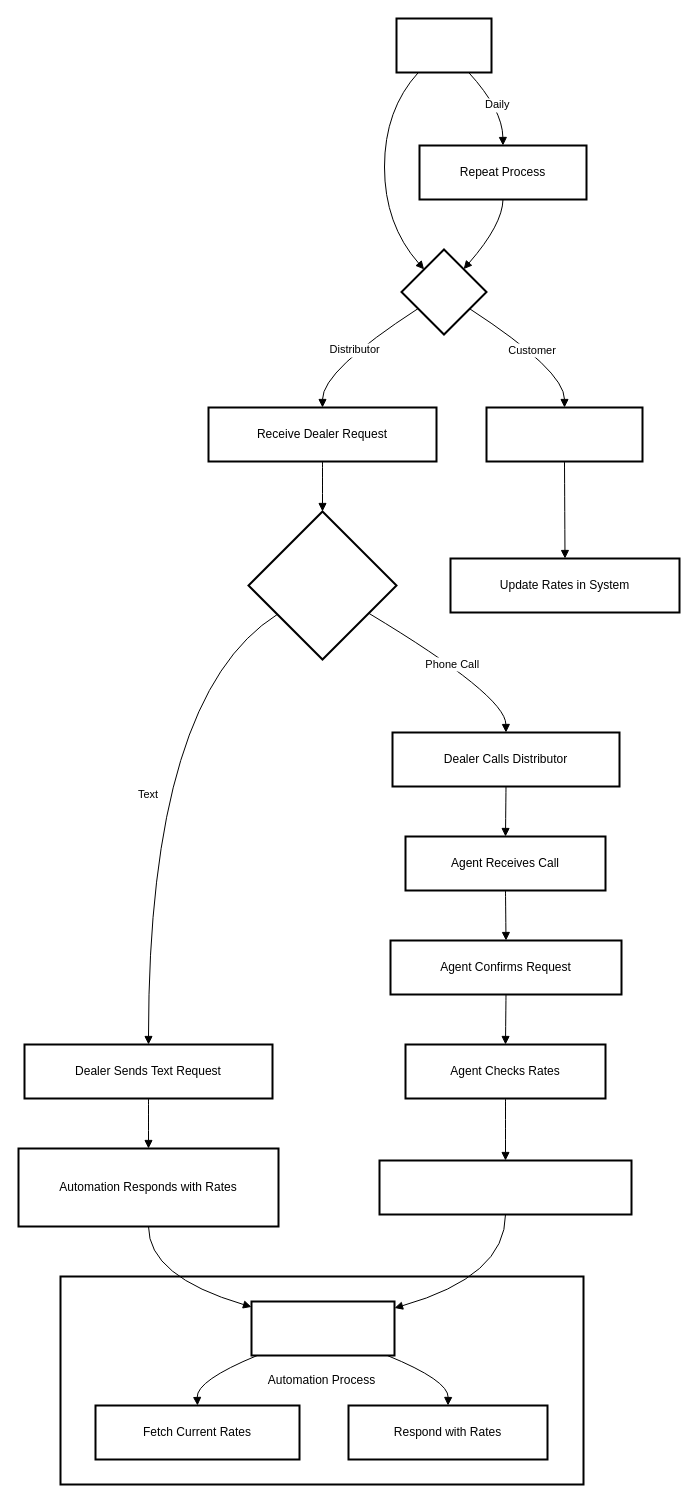
Image size: 697x1502. Some labels were removed from this diagram. Here are the shapes that lost their labels. From the top down, the centre of each, then its label:
At pixel 443 45: "Start".
At pixel 443 291: "Role".
At pixel 564 434: "Update Rates".
At pixel 322 585: "Request Type".
At pixel 505 1187: "Agent Responds with Rates".
At pixel 322 1328: "Automation".
